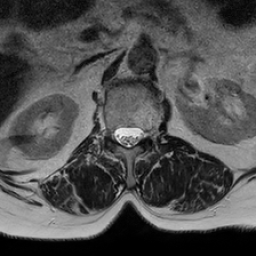CCS_normal: (123, 117, 132, 153)
LFS_stenosis: (142, 118, 150, 145)
LLS_normal: (132, 117, 142, 149)
RFS_normal: (106, 120, 114, 145)
RLS_normal: (114, 118, 123, 149)
